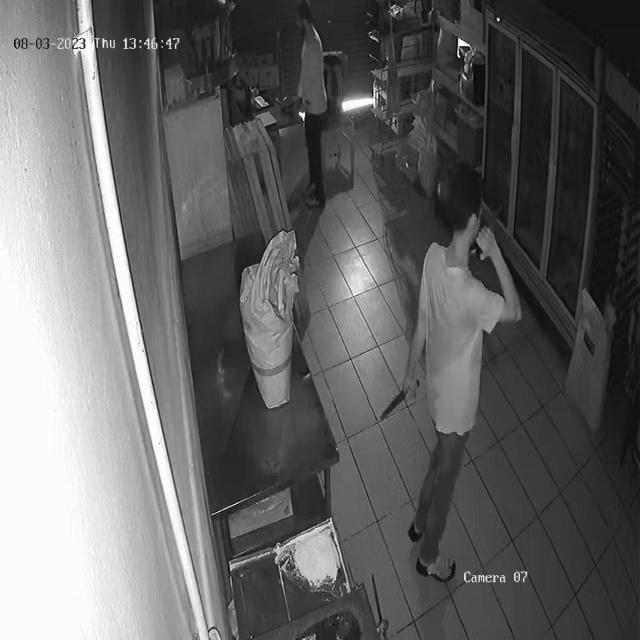Knife: (366, 373, 422, 425)
